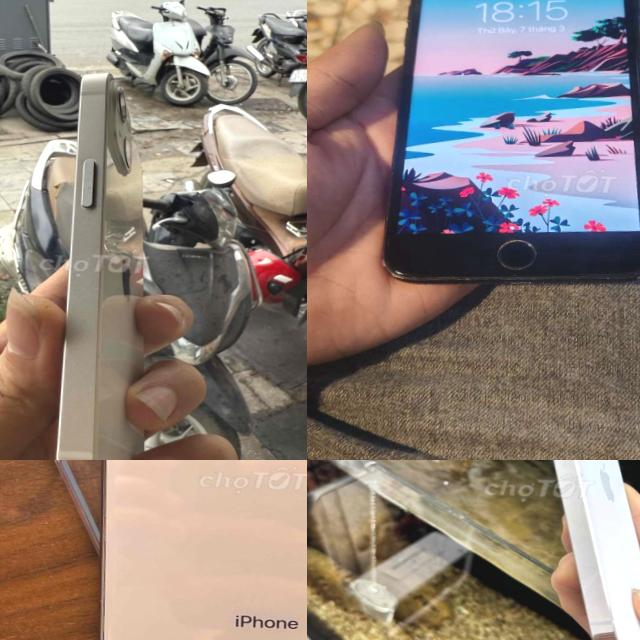gen_12_13: (47, 64, 160, 460)
gen_14: (507, 460, 640, 640)
gen_7_8: (377, 0, 640, 291)
gen_x_xs: (42, 460, 307, 640)
